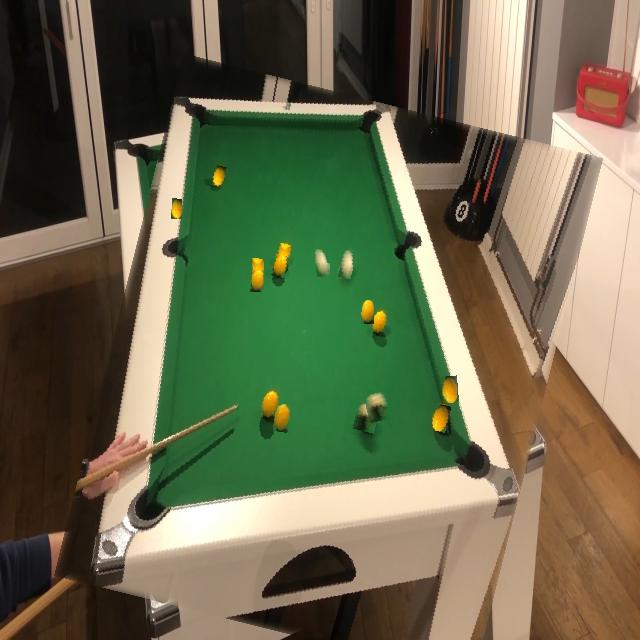Ball: (366, 392, 390, 422), (273, 404, 290, 432), (442, 376, 458, 403), (316, 249, 330, 277), (361, 300, 374, 324), (251, 270, 264, 292), (171, 198, 182, 219), (252, 258, 264, 275)
Billiard table: (83, 75, 574, 640)
